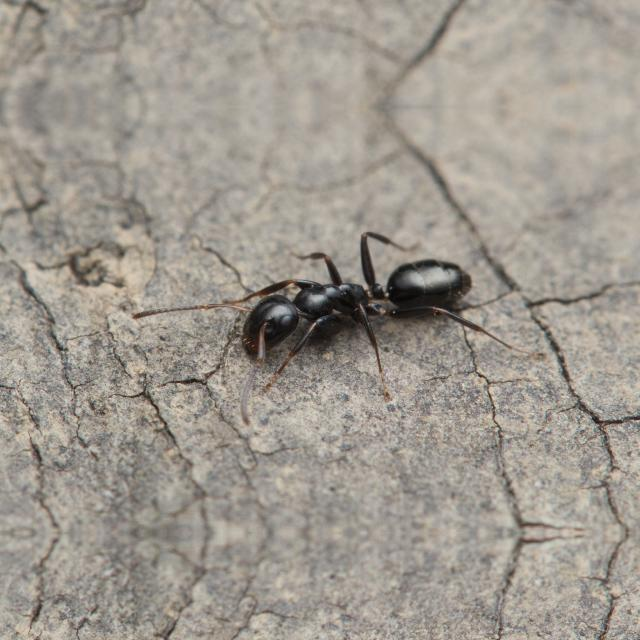Colobopsis: (194, 218, 518, 368)
